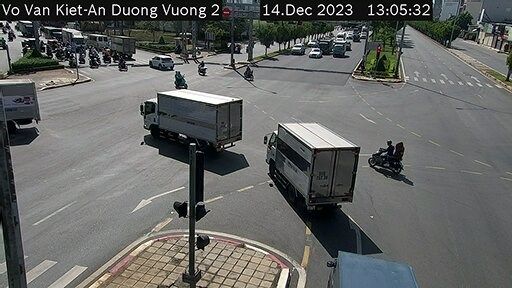car: (149, 54, 172, 72), (306, 47, 319, 61), (291, 40, 301, 54)
motorbike: (361, 137, 405, 174), (171, 71, 186, 93), (238, 63, 254, 79), (192, 60, 206, 76)
truck: (267, 115, 354, 206), (316, 229, 429, 288), (136, 86, 247, 144), (1, 62, 47, 146), (113, 34, 134, 58), (330, 42, 347, 57)
